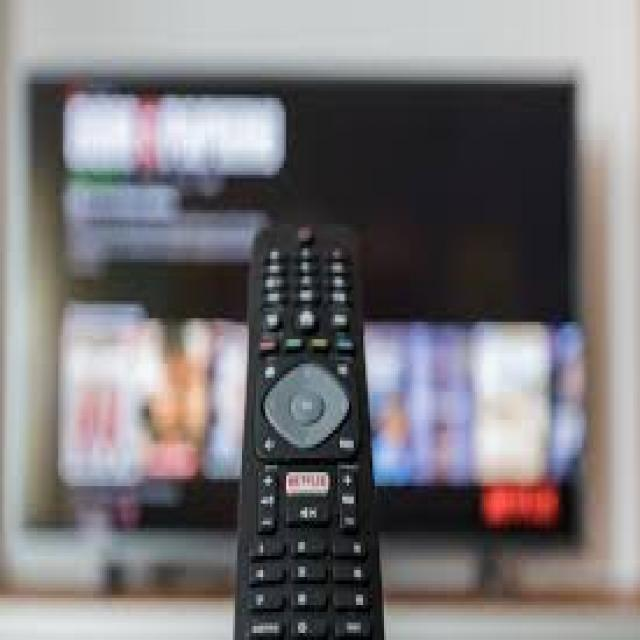remote: (231, 218, 388, 640)
